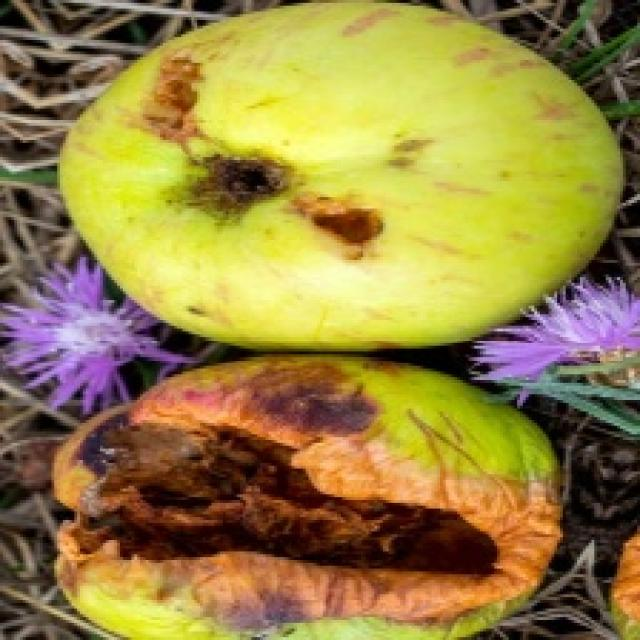rotten_apple: (56, 4, 628, 347), (72, 356, 557, 640)
